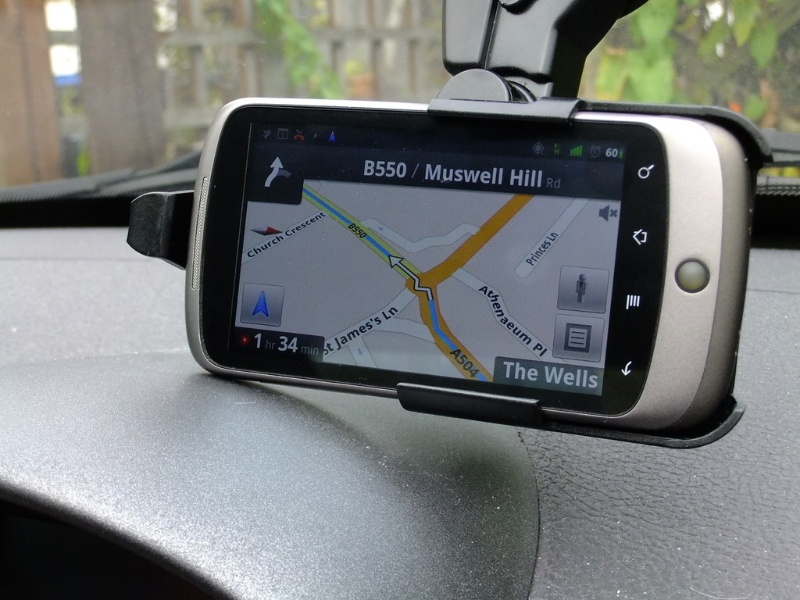cellphone: (187, 100, 754, 447)
